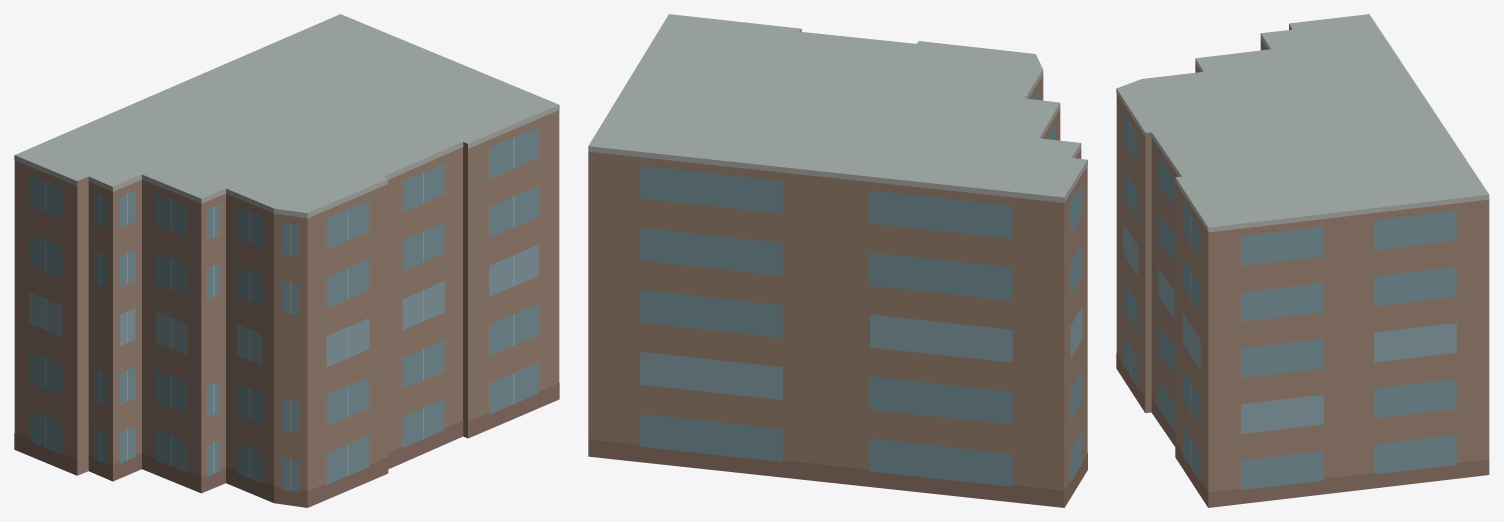
The model's file is survey-upis-32911062.glb.
3 views of the same model, side by side, from view 1: azimuth 30°, elevation 25°; view 2: azimuth 150°, elevation 25°; view 3: azimuth 270°, elevation 25° (orthographic). The views are drawn at different scales.
Visible parts, largest first — view 1: survey-upis-32911062.tmp; view 2: survey-upis-32911062.tmp; view 3: survey-upis-32911062.tmp.
Part boxes in pixels (box(x1,y1,x2,y2)): survey-upis-32911062.tmp: box(14, 14, 559, 507); survey-upis-32911062.tmp: box(588, 14, 1087, 507); survey-upis-32911062.tmp: box(1116, 14, 1489, 507).
Size of the model in its own units: 22.98 by 14.05 by 16.95.
